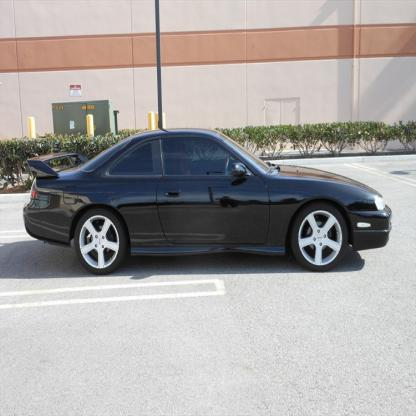Vehicle: (22, 122, 396, 278)
